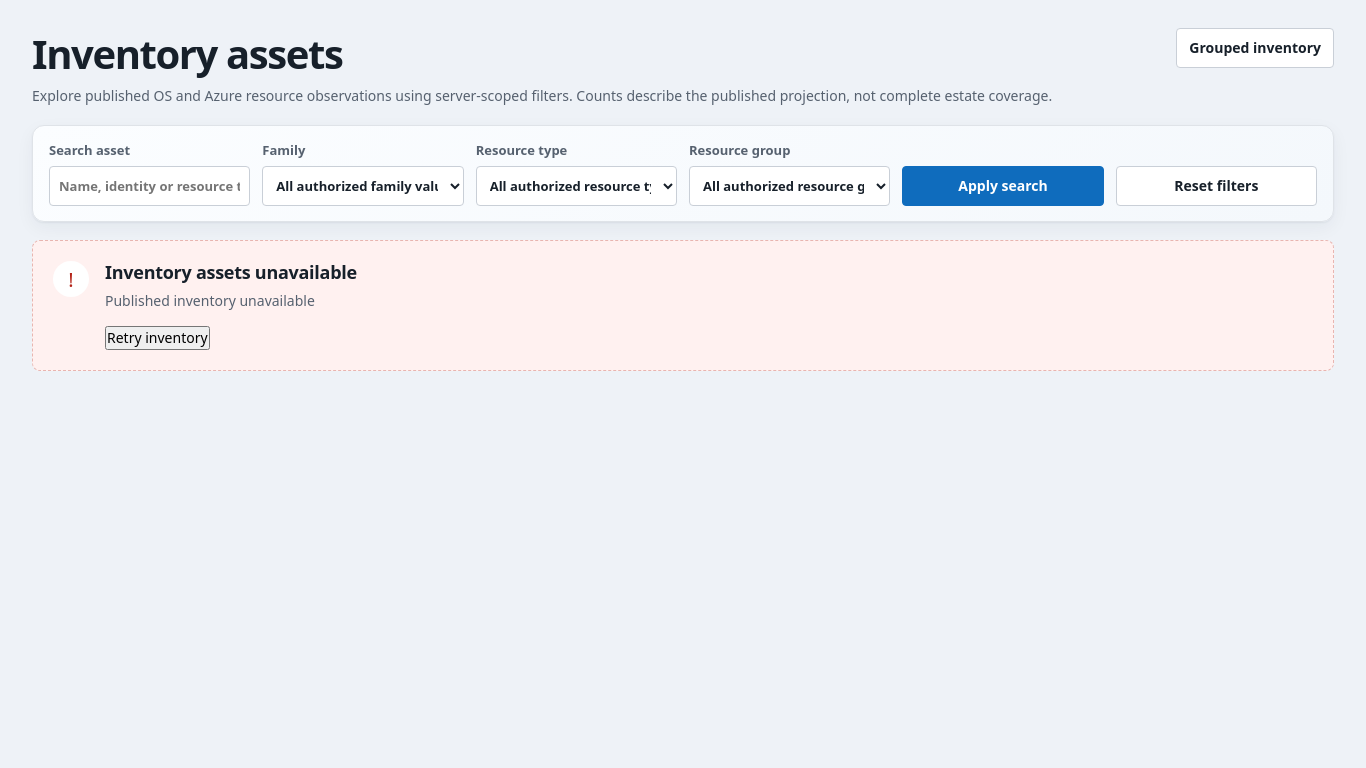
Test: published inventory asset exploration › retries an unchanged query after a visible provider failure
Expected: the message "! Inventory assets unavailable Published inventory unavailable Retry inventory" is shown, [32, 240, 1334, 371]
Click the button "Apply search" at (1003, 186), box [902, 166, 1104, 206]
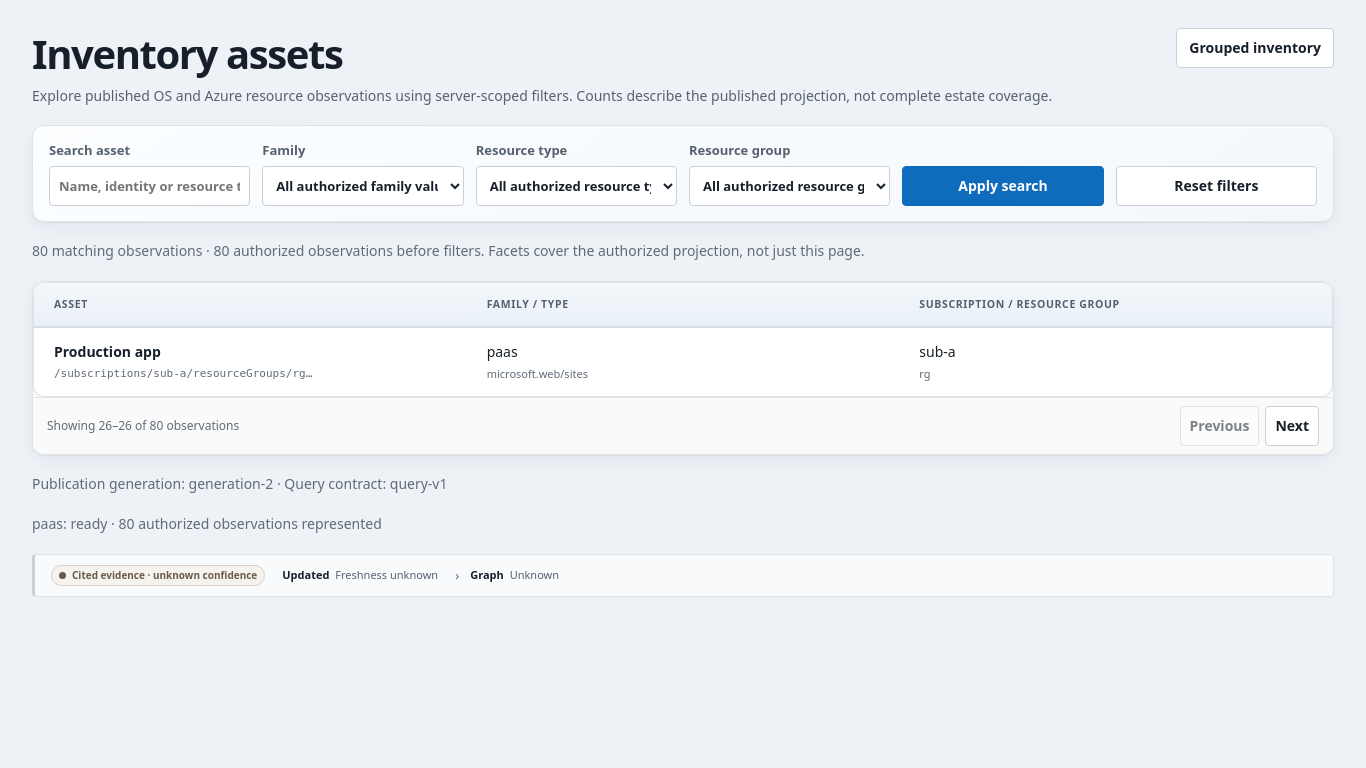
Expected: the link "Production app" is shown, [54, 342, 161, 361]
